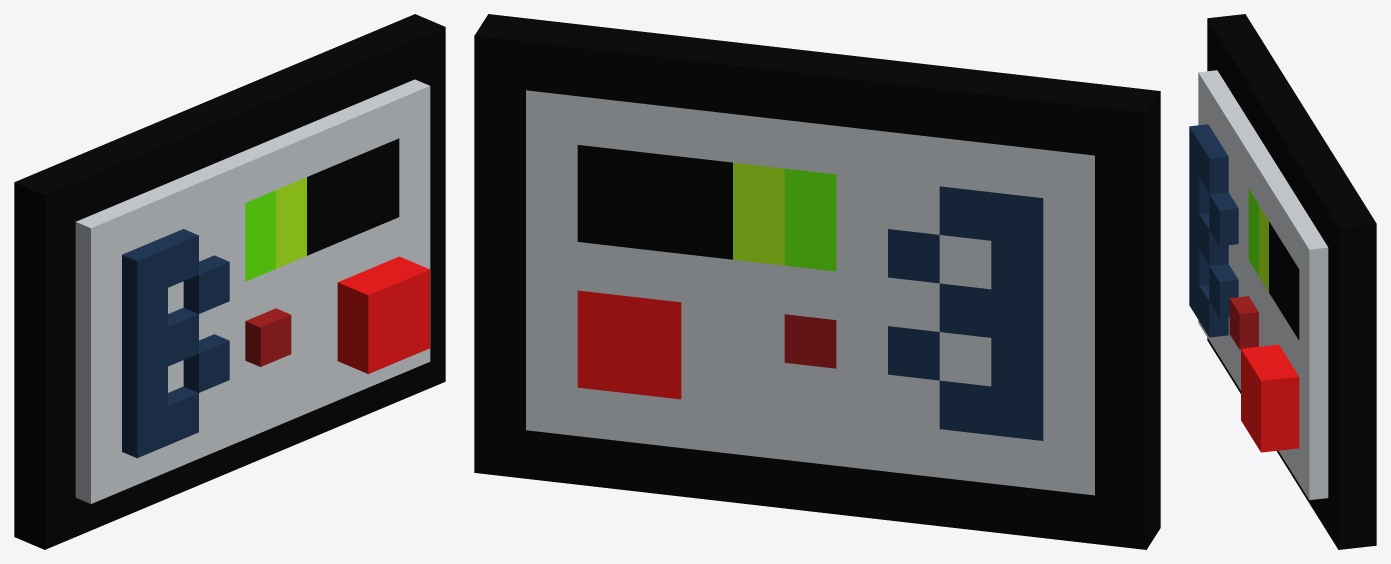
The model's file is Timed Spike Bombmetacharging2.glb.
The picture shows the model from 3 angles, left to right: view 1: azimuth 30°, elevation 25°; view 2: azimuth 150°, elevation 25°; view 3: azimuth 270°, elevation 25°; orthographic projection. The views are drawn at different scales.
Visible parts, largest first — view 1: generated(Clone).001; view 2: generated(Clone).001; view 3: generated(Clone).001.
Part boxes in pixels (left/top/right/bottom): generated(Clone).001: left=14, top=14, right=445, bottom=549; generated(Clone).001: left=474, top=14, right=1160, bottom=549; generated(Clone).001: left=1189, top=14, right=1376, bottom=549.
Bounding box in the file's own units: 10.26 × 7.2 × 3.8.
1 material, 1 textured.
